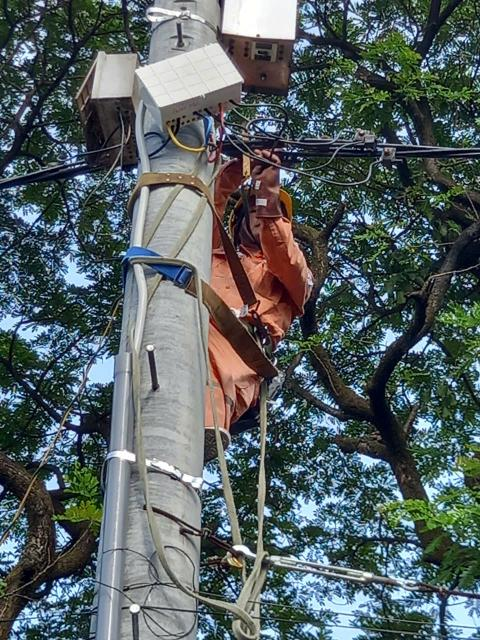gloves: (241, 149, 291, 220)
helmet: (233, 175, 299, 240)
shoes: (196, 420, 235, 470)
